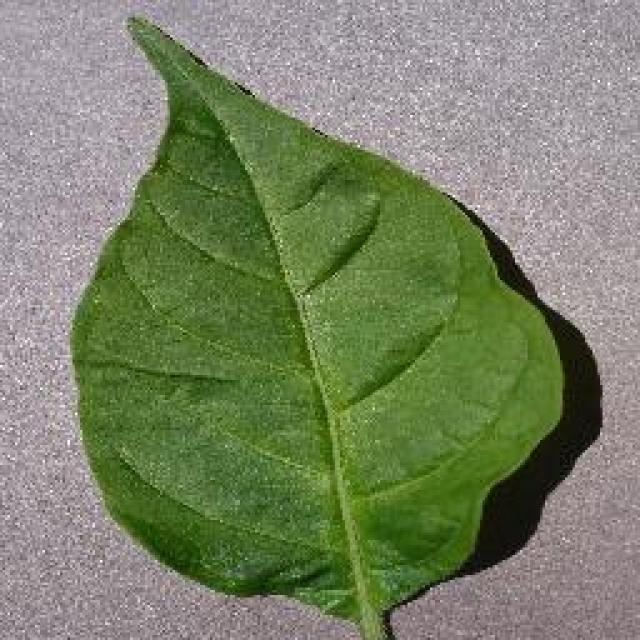Chilli_Healthy: (65, 12, 567, 638)
